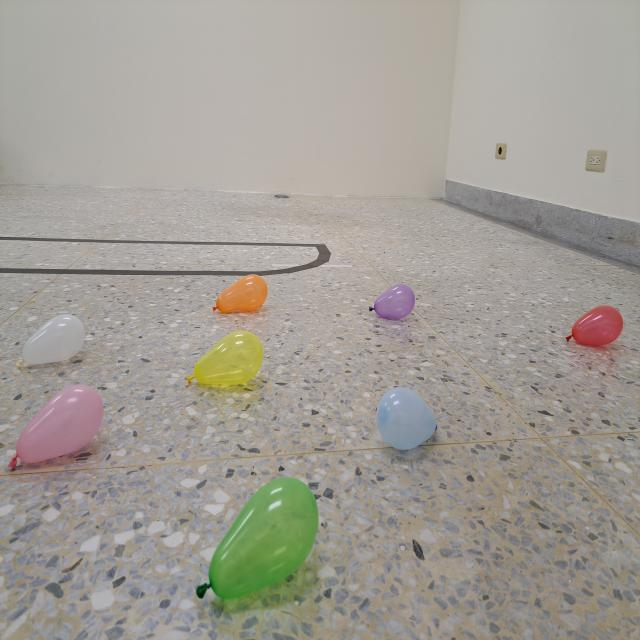other: (195, 477, 319, 606), (8, 385, 104, 472), (186, 332, 265, 388), (374, 386, 440, 453), (15, 313, 86, 370), (212, 272, 269, 314), (368, 284, 416, 318)
red: (564, 304, 623, 346)
